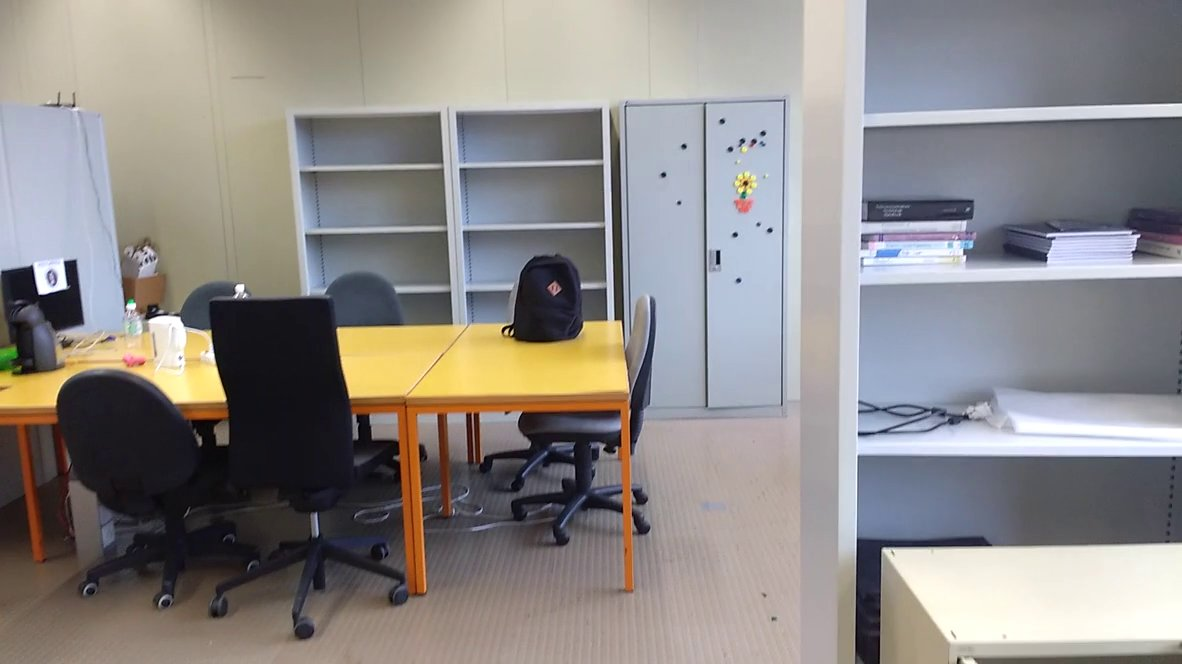bag: (499, 250, 594, 347)
chair: (199, 283, 432, 622), (51, 365, 271, 614), (516, 289, 677, 562), (298, 258, 416, 350)
